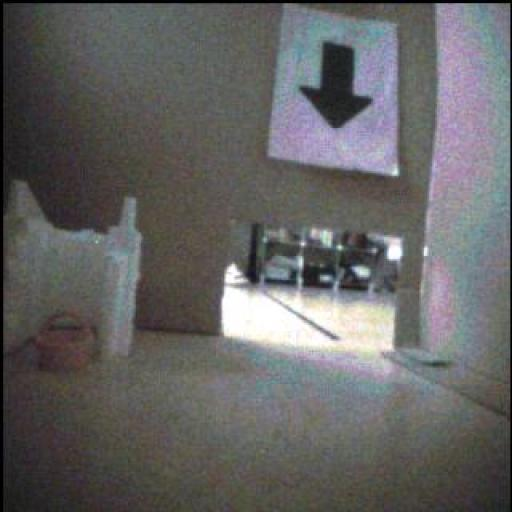arrow: (302, 43, 374, 129)
